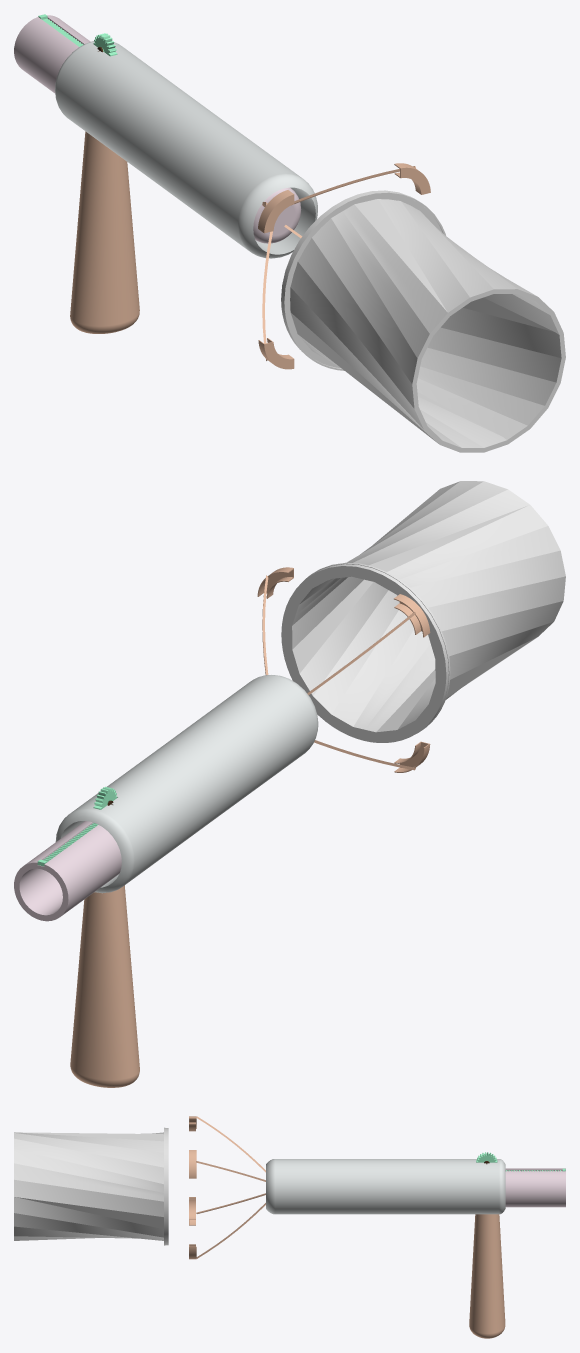
Rendered from SpeculumWhite.gltf.
The picture shows the model from 3 angles, top to bottom: view 1: azimuth 30°, elevation 25°; view 2: azimuth 150°, elevation 25°; view 3: azimuth 270°, elevation 25°; orthographic projection. The views are drawn at different scales.
Parts seen in each view (by area): view 1: Body4.001, Body4, Body1.002, Main Body (1).002, Body77, Body81, Body75; view 2: Body4.001, Body4, Body1.002, Main Body (1).002; view 3: Body4.001, Body4, Body1.002, Main Body (1).002.
Boxes of the visible parts, left/top/right/bottom form: Body4.001: left=281, top=190, right=565, bottom=452; Body4: left=55, top=41, right=317, bottom=258; Body1.002: left=70, top=131, right=139, bottom=333; Main Body (1).002: left=14, top=15, right=301, bottom=243; Body77: left=258, top=190, right=294, bottom=233; Body81: left=394, top=163, right=430, bottom=194; Body75: left=258, top=338, right=294, bottom=369; Body4.001: left=281, top=481, right=565, bottom=742; Body4: left=55, top=675, right=318, bottom=893; Body1.002: left=70, top=885, right=139, bottom=1087; Main Body (1).002: left=14, top=821, right=121, bottom=921; Body4.001: left=14, top=1127, right=168, bottom=1245; Body4: left=266, top=1159, right=505, bottom=1214; Body1.002: left=469, top=1214, right=505, bottom=1338; Main Body (1).002: left=505, top=1168, right=565, bottom=1207.
Size of the model in its own units: 2.11 by 3.89 by 9.81.
